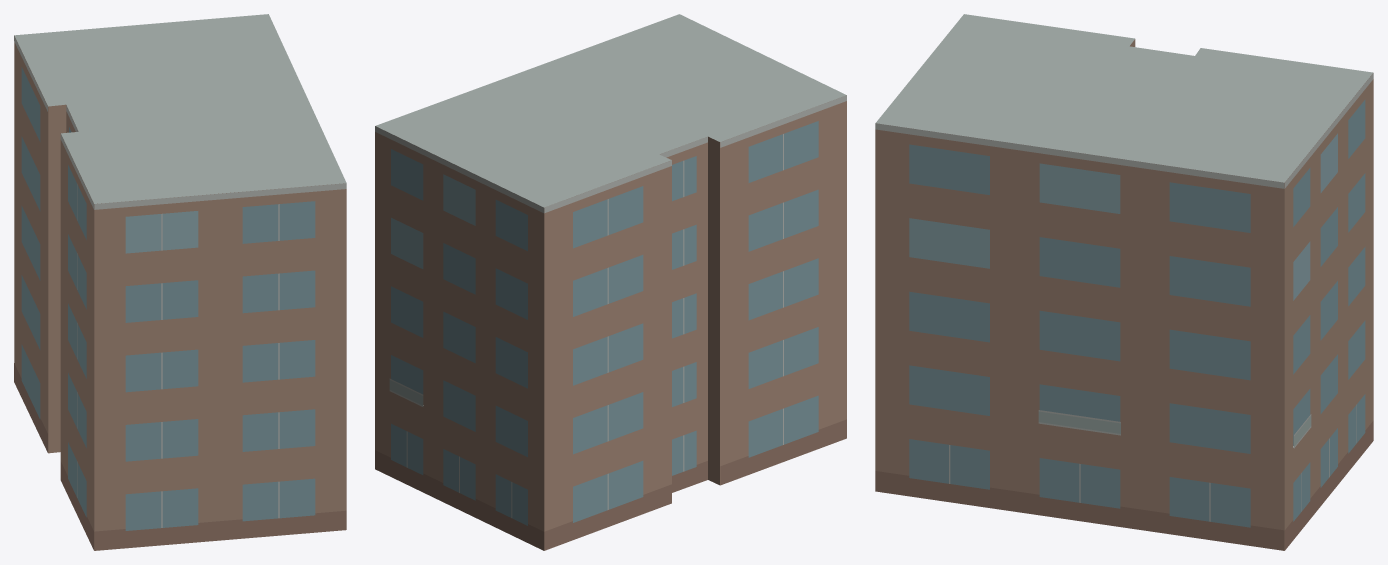
The model's file is survey-upis-33004712.glb.
The picture shows the model from 3 angles, left to right: view 1: azimuth 30°, elevation 25°; view 2: azimuth 150°, elevation 25°; view 3: azimuth 270°, elevation 25°; orthographic projection. The views are drawn at different scales.
Parts seen in each view (by area): view 1: survey-upis-33004712.tmp; view 2: survey-upis-33004712.tmp; view 3: survey-upis-33004712.tmp.
Boxes of the visible parts, x1=… form: survey-upis-33004712.tmp: x1=14, y1=14, x2=346, y2=550; survey-upis-33004712.tmp: x1=375, y1=14, x2=846, y2=550; survey-upis-33004712.tmp: x1=875, y1=14, x2=1373, y2=550.
Bounding box in the file's own units: 14.16 × 14.4 × 17.67.
